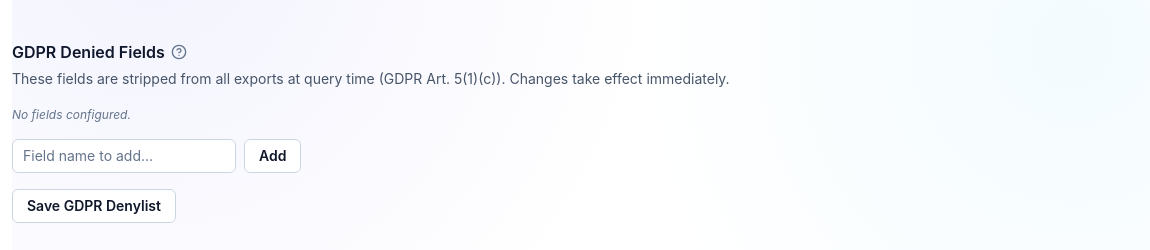
it: GdprDenylistEditor › adds a trimmed field and clears the input
Type "  new_field  " into the field with placeholder "Field name to add…" at (124, 156), box 12,139 -> 236,173
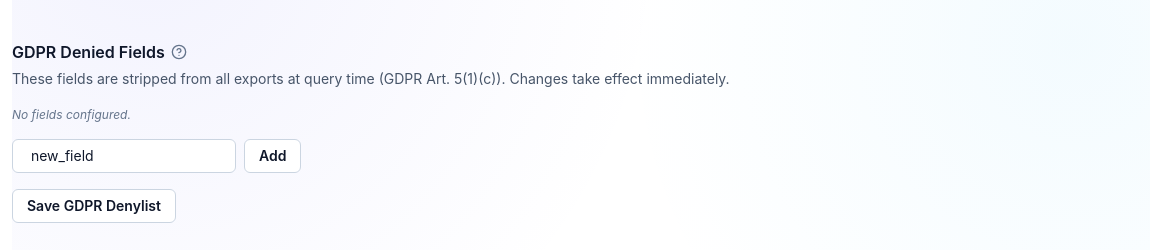
Click the button "Add" at (273, 156), box 244,139 -> 302,173
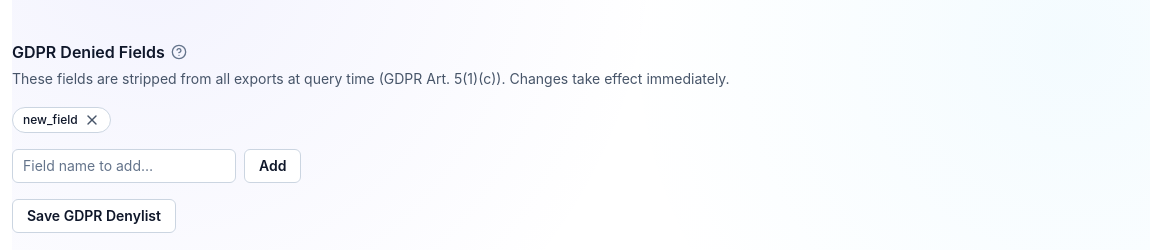
expect the text "new_field" is shown: met, box 12,107 -> 111,133
expect the field with placeholder "Field name to add…" is empty: met, box 12,149 -> 236,183
